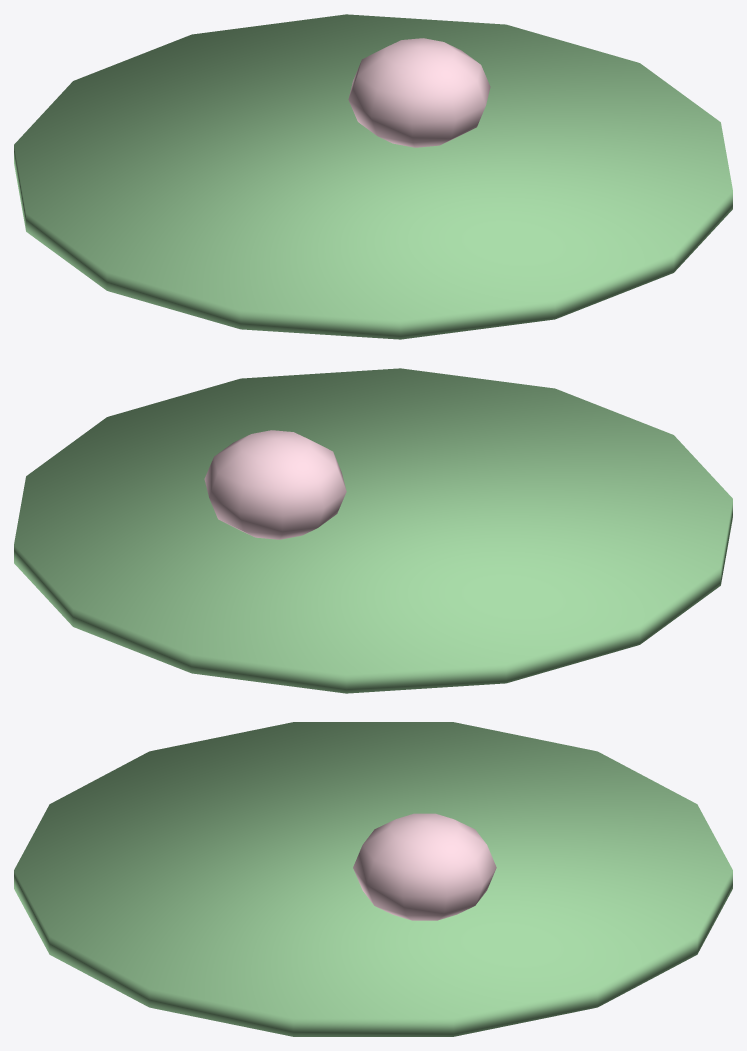
File: lily_pad.glb
3 views of the same model, one above another, from view 1: azimuth 30°, elevation 25°; view 2: azimuth 150°, elevation 25°; view 3: azimuth 270°, elevation 25° (orthographic).
Visible parts, largest first — view 1: lily_pad; view 2: lily_pad; view 3: lily_pad.
Boxes of the visible parts, x1=… form: lily_pad: x1=14, y1=14, x2=732, y2=339; lily_pad: x1=14, y1=368, x2=732, y2=693; lily_pad: x1=14, y1=722, x2=732, y2=1036.
Bounding box in the file's own units: 0.6824 × 0.109 × 0.7.
